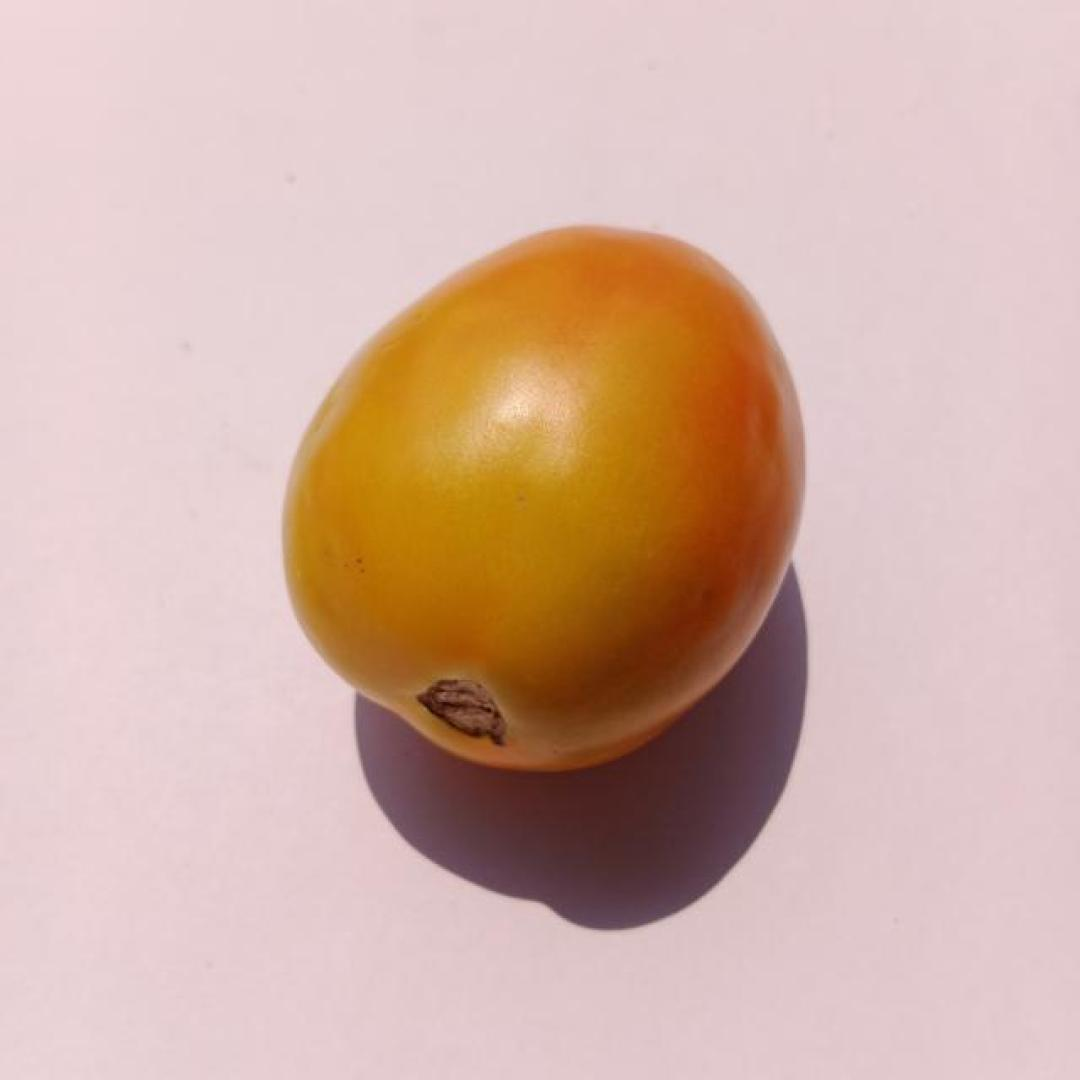setengah_matang: (273, 221, 810, 773)
